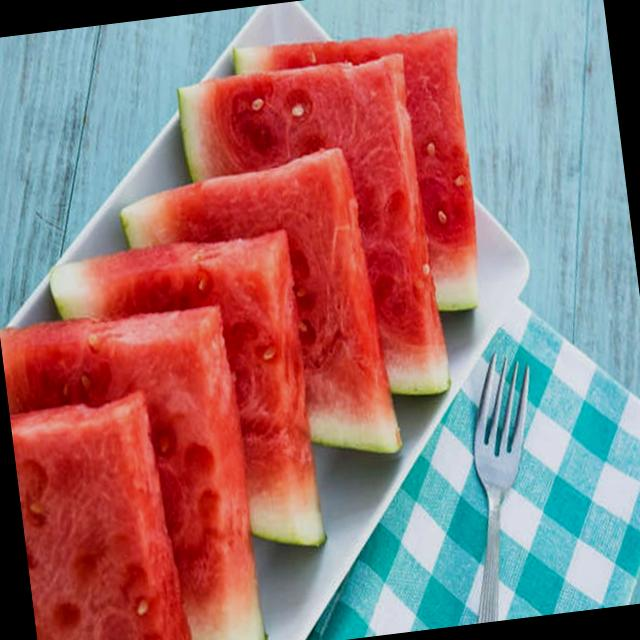dua hau: (180, 42, 449, 393), (0, 307, 262, 640), (50, 231, 326, 545), (122, 149, 401, 452), (233, 29, 478, 311), (10, 394, 191, 640)
